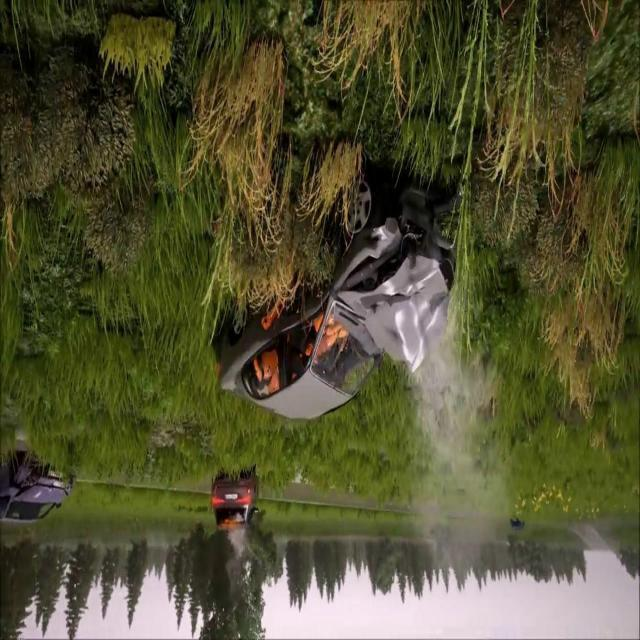severe: (208, 167, 467, 428)
